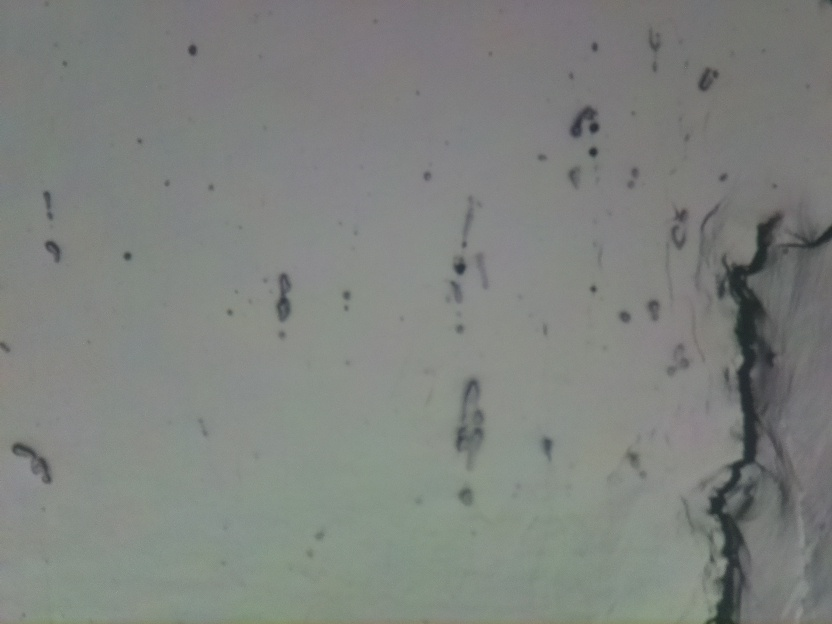crack: (700, 203, 789, 624)
